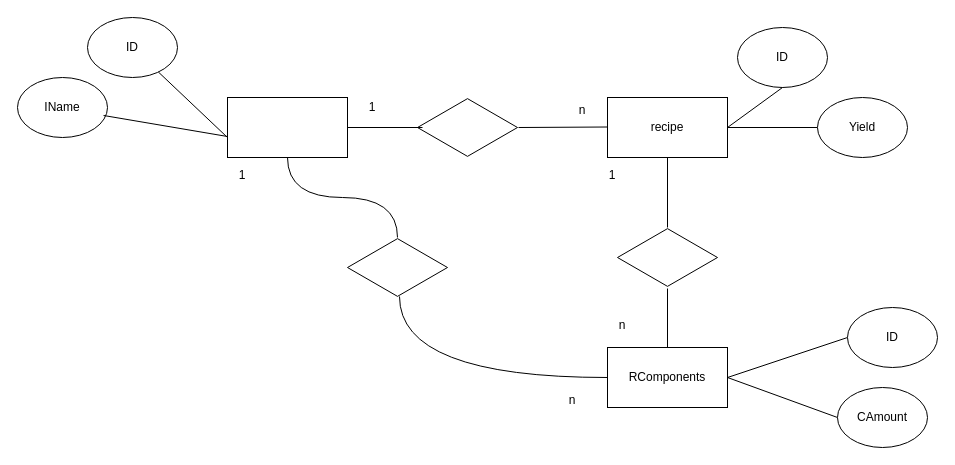
Image size: 955x465. Some labels were removed from this diagram. The shapes that lost their labels are listed below. From the top down, each one's centre as x and y in pixels, then its label:
(287,127): item
(467,127): besitzt
(397,267): ist
(667,257): besteht aus
